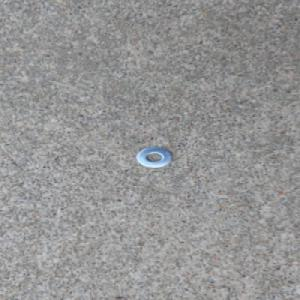Washer: (135, 146, 173, 168)
